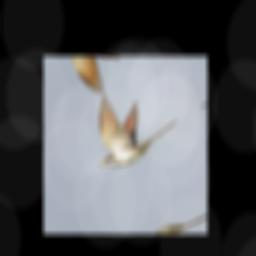Cuckoo: (78, 63, 182, 179)
